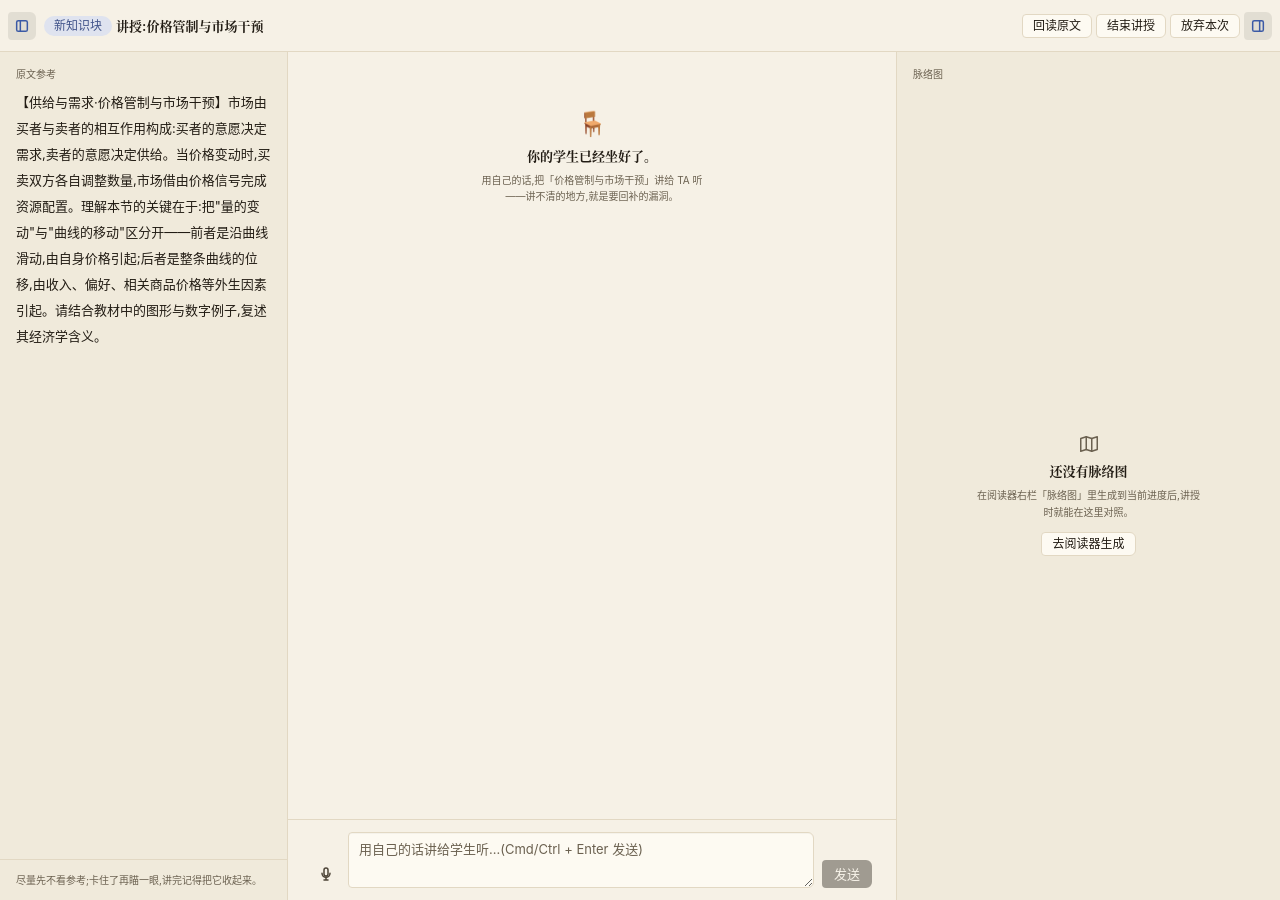
Test: 费曼对话页(契约 v2) › 发送复述后学生第 1 条渐显;startOrResumeSession/submitTurn 参数符合契约
Type "需求曲线向右下方倾斜" into the text box at (581, 860), box 348,832 -> 814,888
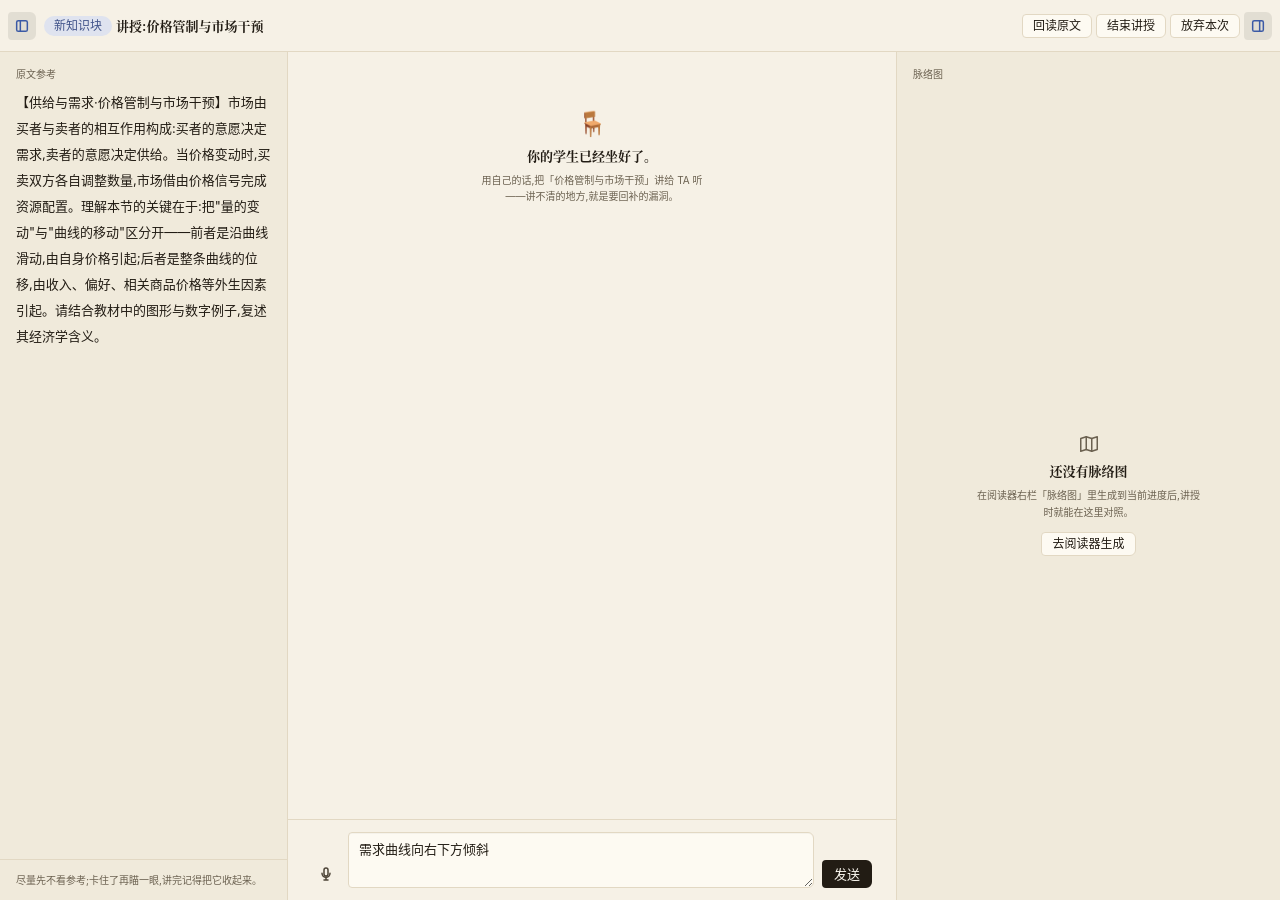
Click the button "发送" at (847, 874), box 822,860 -> 872,888
Wait 8000 ms
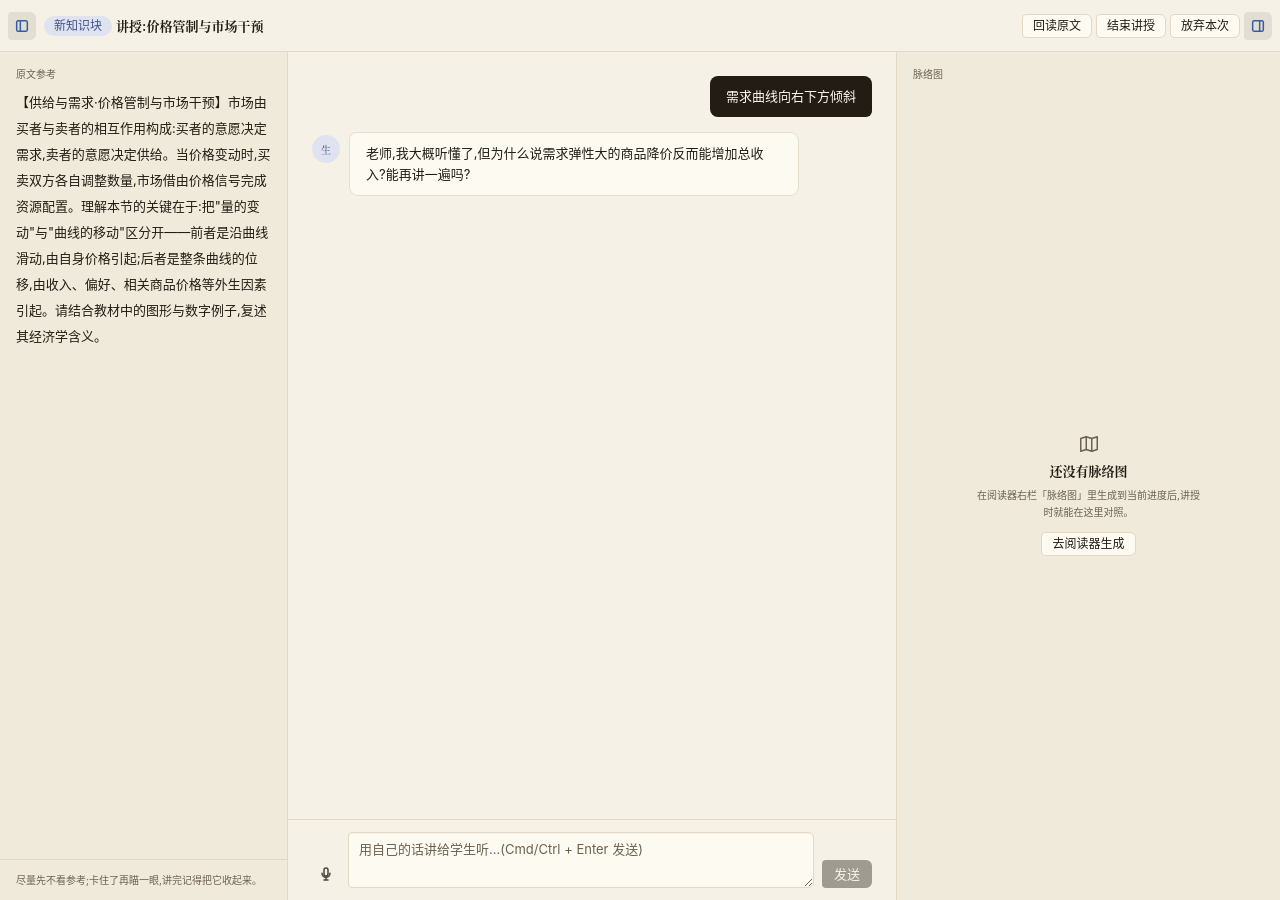
Now the text "老师,我大概听懂了,但为什么说需求弹性大的商品降价反而能增加总收入?能再讲一遍吗?" is shown, box 350,133 -> 798,195
Now the text "需求曲线向右下方倾斜" is shown, box 710,76 -> 872,117
